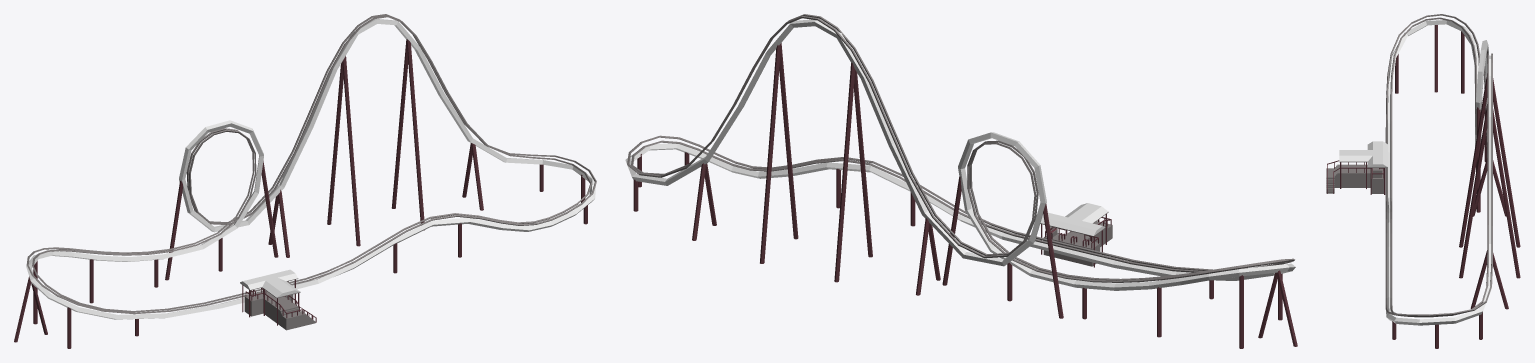
The model's file is roller-coaster-big.fbx.
3 renders of one model, left to right at view 1: azimuth 30°, elevation 25°; view 2: azimuth 150°, elevation 25°; view 3: azimuth 270°, elevation 25°, orthographic. The views are drawn at different scales.
Parts seen in each view (by area): view 1: roller-coaster-big; view 2: roller-coaster-big; view 3: roller-coaster-big.
Boxes of the visible parts, x1=… form: roller-coaster-big: x1=14, y1=14, x2=596, y2=348; roller-coaster-big: x1=625, y1=14, x2=1297, y2=348; roller-coaster-big: x1=1326, y1=14, x2=1520, y2=348.
Bounding box in the file's own units: 95.66 × 33.6 × 28.65.
